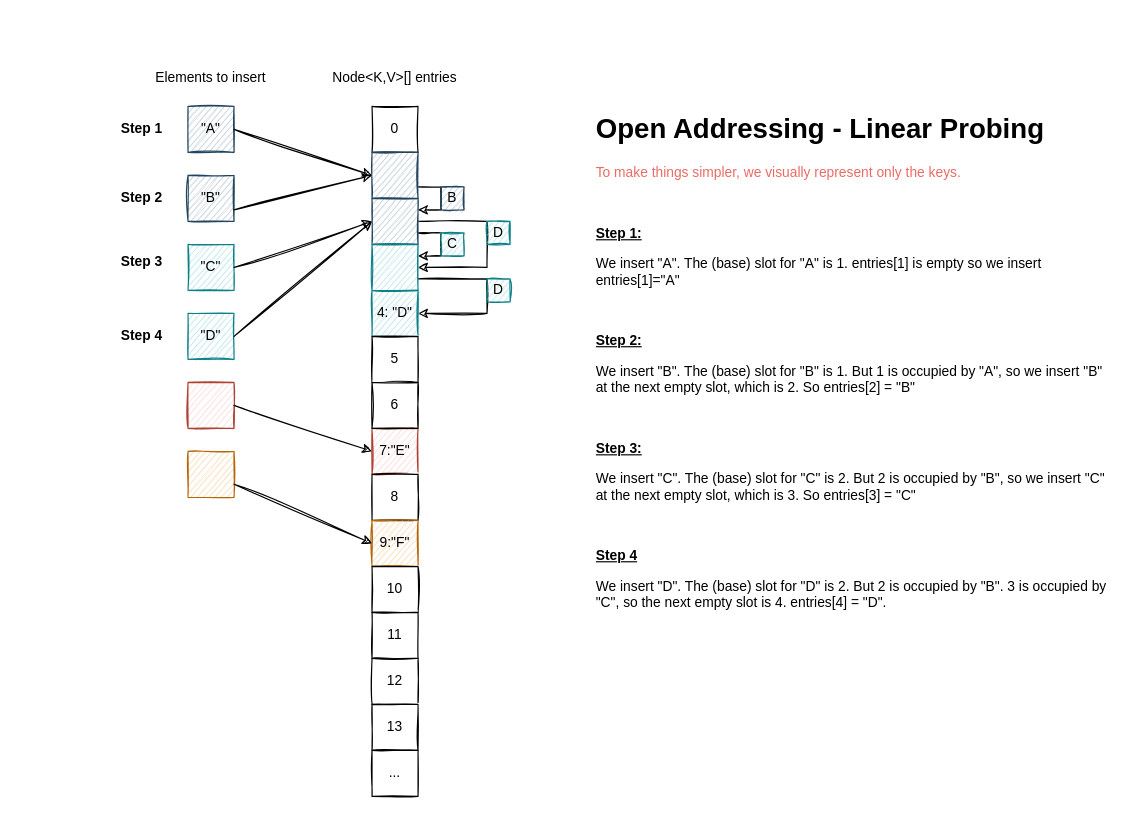
This 1143x817 diagram has some shape labels left out. Each missing label, with the centre of its shape:
"E": the point at 210,404
"F": the point at 210,473
1: "A": the point at 394,174
2: "B": the point at 394,220
3: "C": the point at 394,266
